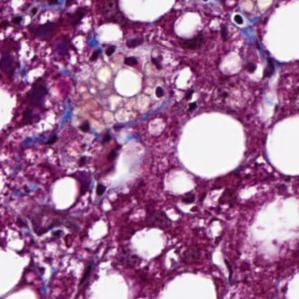inflammation: (70, 122, 120, 174), (84, 35, 146, 73), (240, 58, 279, 86), (175, 192, 206, 222)
